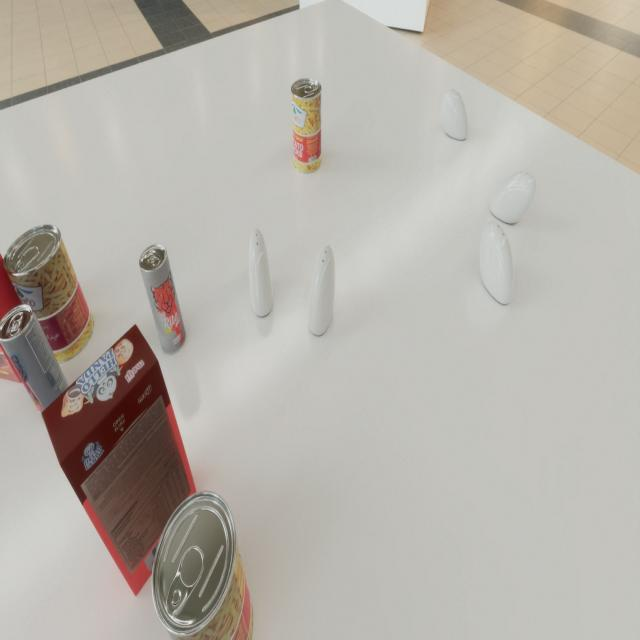HelloPanda: (42, 324, 200, 596)
Potato_sticks: (151, 490, 253, 640), (3, 224, 94, 364), (291, 78, 322, 174)
Rita_zero_sugar: (0, 304, 72, 423), (139, 243, 186, 354)
Salt: (480, 221, 514, 304), (489, 171, 536, 224), (308, 245, 335, 335), (249, 228, 273, 316), (442, 89, 468, 140)
